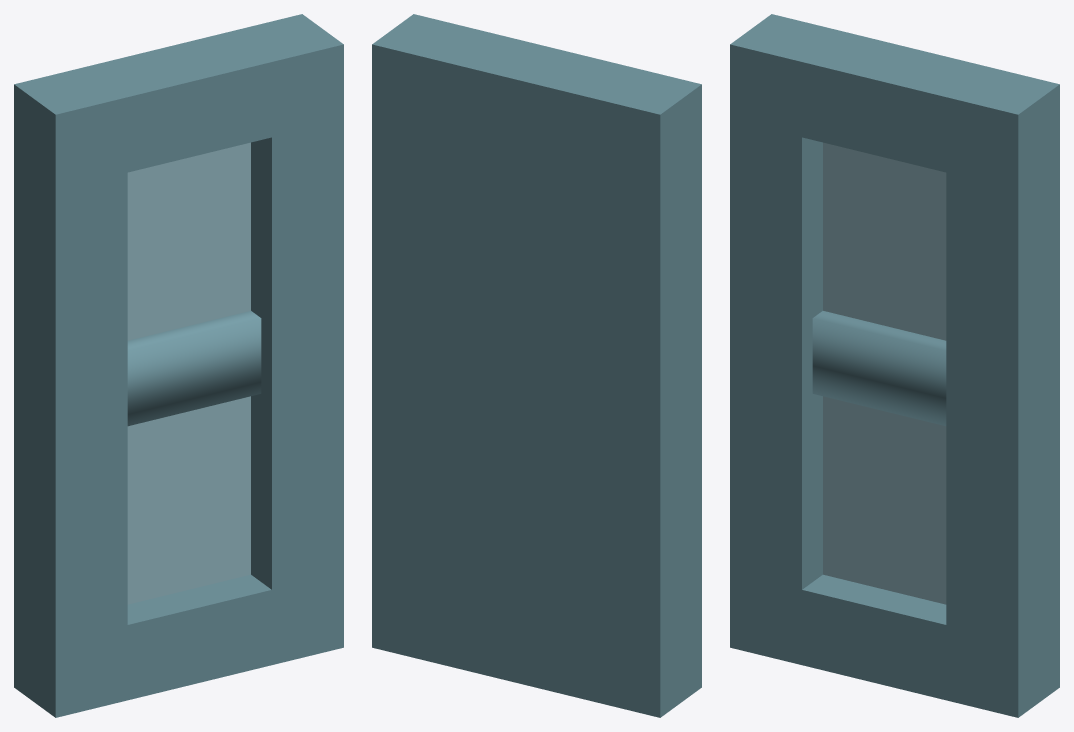
Rendered from cryptDoor.obj.
3 views of the same model, side by side, from view 1: azimuth 30°, elevation 25°; view 2: azimuth 150°, elevation 25°; view 3: azimuth 330°, elevation 25° (orthographic).
Visible parts, largest first — view 1: cryptDoor; view 2: cryptDoor; view 3: cryptDoor.
Boxes of the visible parts, x1,y1,x2,y2 form: cryptDoor: (14, 14, 343, 717); cryptDoor: (372, 14, 701, 717); cryptDoor: (730, 14, 1059, 717).
Size of the model in its own units: 0.4 by 0.8 by 0.1.
